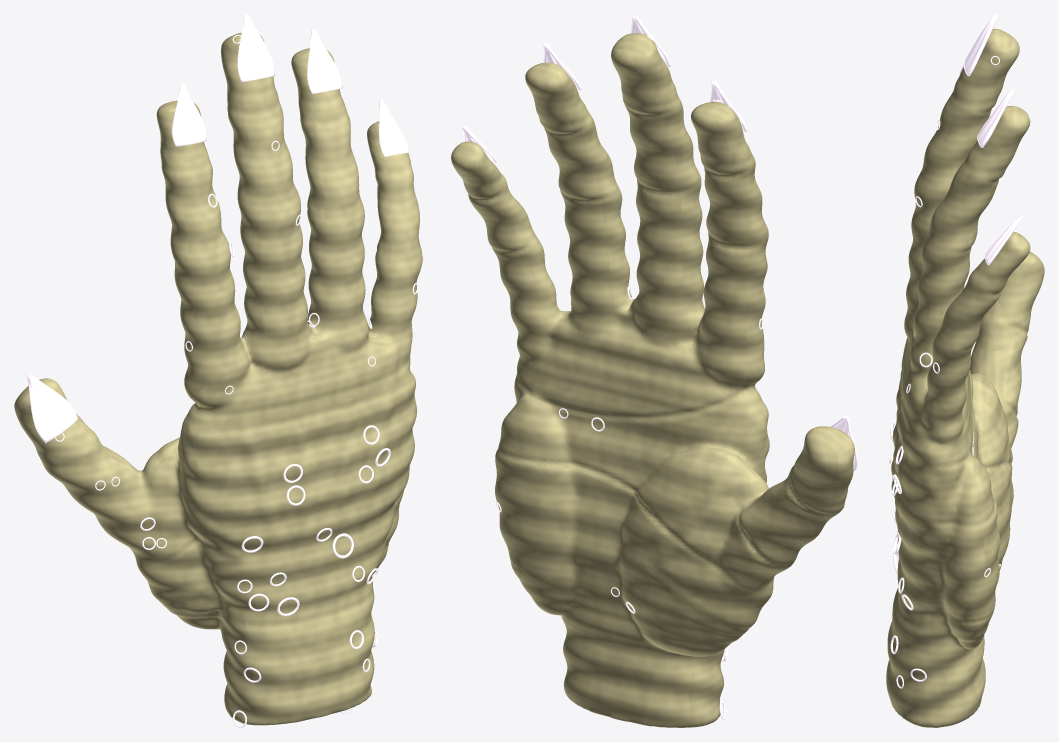
The model's file is family-10.glb.
3 views of the same model, side by side, from view 1: azimuth 30°, elevation 25°; view 2: azimuth 150°, elevation 25°; view 3: azimuth 270°, elevation 25° (orthographic). The views are drawn at different scales.
Parts seen in each view (by area): view 1: fingers__fingers_sculpt, back_of_hand__back_of_hand_sculpt, wrist__wrist_sculpt, fingertips__fingertips_sculpt, palm__palm_sculpt, nails__thumb_claw, back_of_hand, nails__middle_claw, nails__ring_claw, nails__index_claw, nails__pinky_claw, fingers; view 2: fingers__fingers_sculpt, palm__palm_sculpt, wrist__wrist_sculpt, fingertips__fingertips_sculpt; view 3: fingers__fingers_sculpt, palm__palm_sculpt, wrist__wrist_sculpt, back_of_hand__back_of_hand_sculpt, fingertips__fingertips_sculpt, back_of_hand, nails__middle_claw, nails__ring_claw, nails__pinky_claw, wrist.
Part boxes in pixels (<box>): fingers__fingers_sculpt: <box>42,94,422,604</box>; back_of_hand__back_of_hand_sculpt: <box>181,368,416,622</box>; wrist__wrist_sculpt: <box>172,571,375,725</box>; fingertips__fingertips_sculpt: <box>14,32,412,462</box>; palm__palm_sculpt: <box>161,414,403,614</box>; nails__thumb_claw: <box>26,373,77,443</box>; back_of_hand: <box>237,425,390,616</box>; nails__middle_claw: <box>237,14,274,82</box>; nails__ring_claw: <box>307,28,342,93</box>; nails__index_claw: <box>172,83,206,146</box>; nails__pinky_claw: <box>379,99,408,156</box>; fingers: <box>95,140,418,549</box>; fingers__fingers_sculpt: <box>465,87,845,632</box>; palm__palm_sculpt: <box>495,353,765,642</box>; wrist__wrist_sculpt: <box>525,589,736,727</box>; fingertips__fingertips_sculpt: <box>451,33,854,507</box>; fingers__fingers_sculpt: <box>901,80,1029,507</box>; palm__palm_sculpt: <box>938,369,1011,639</box>; wrist__wrist_sculpt: <box>886,588,985,727</box>; back_of_hand__back_of_hand_sculpt: <box>891,370,940,627</box>; fingertips__fingertips_sculpt: <box>957,28,1044,324</box>; back_of_hand: <box>888,421,913,610</box>; nails__middle_claw: <box>963,14,997,76</box>; nails__ring_claw: <box>977,89,1013,147</box>; nails__pinky_claw: <box>985,216,1022,265</box>; wrist: <box>887,635,926,711</box>.
Bounding box in the file's own units: 0.1307 × 0.2232 × 0.0475.
Materials: 2 (1 with a texture image).
